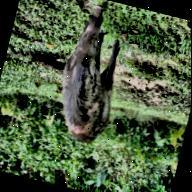boar: (31, 0, 149, 167)
